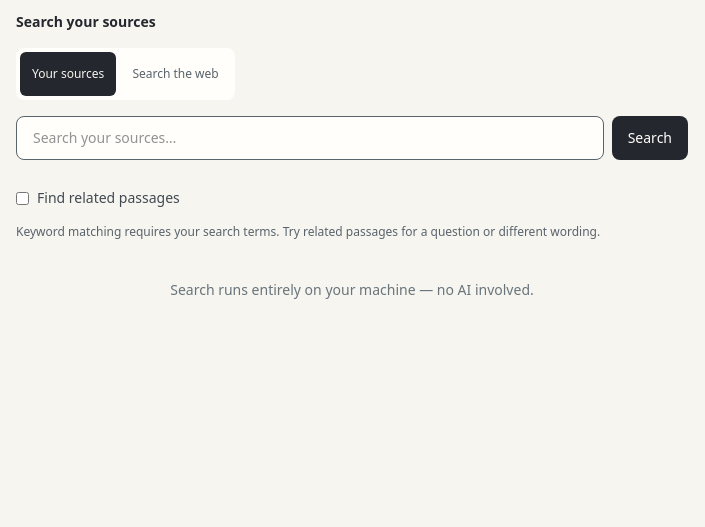
SearchPanel keeps honest messages (no friendly override for clean errors)
Type "cells" into the search field with placeholder "Search your sources…" at (310, 138), box [16, 116, 604, 160]
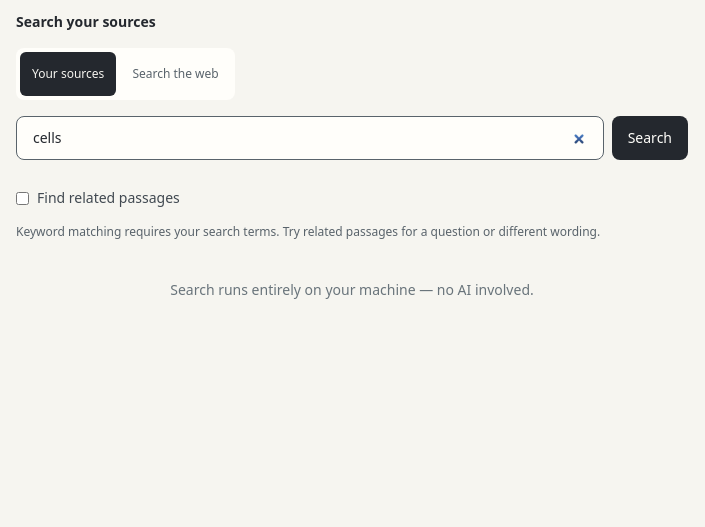
Click the button with aria-label "submit search" at (650, 138), box [612, 116, 688, 160]
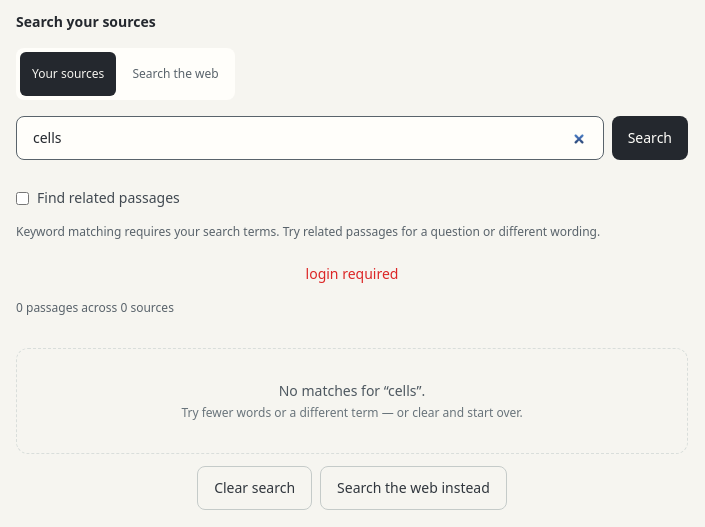
Result: the text "login required" is shown at [306, 264, 398, 283]
